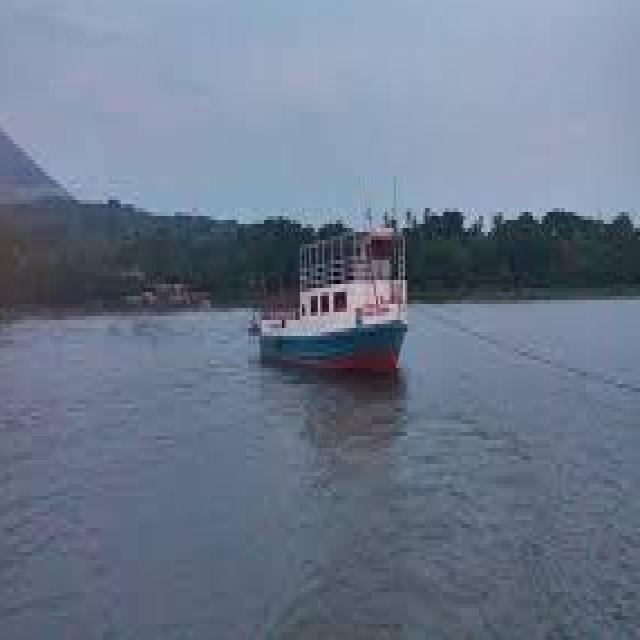houseboat: (249, 183, 415, 385)
